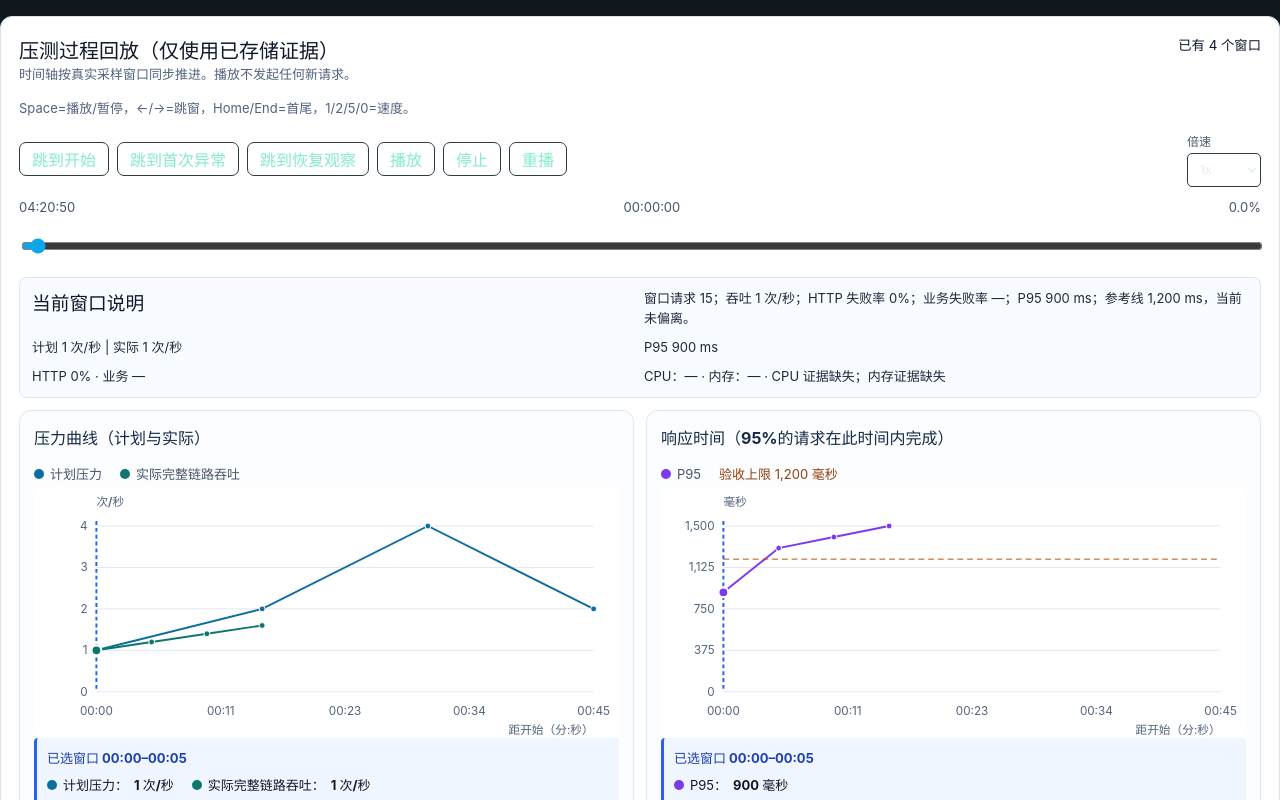
LoadRunReplayPanel › toggles playback with the same play and pause control
The width and height of the screenshot is (1280, 800).
Click the button with test id "replay-toggle". click: (406, 159)
box: [377,142,435,176]
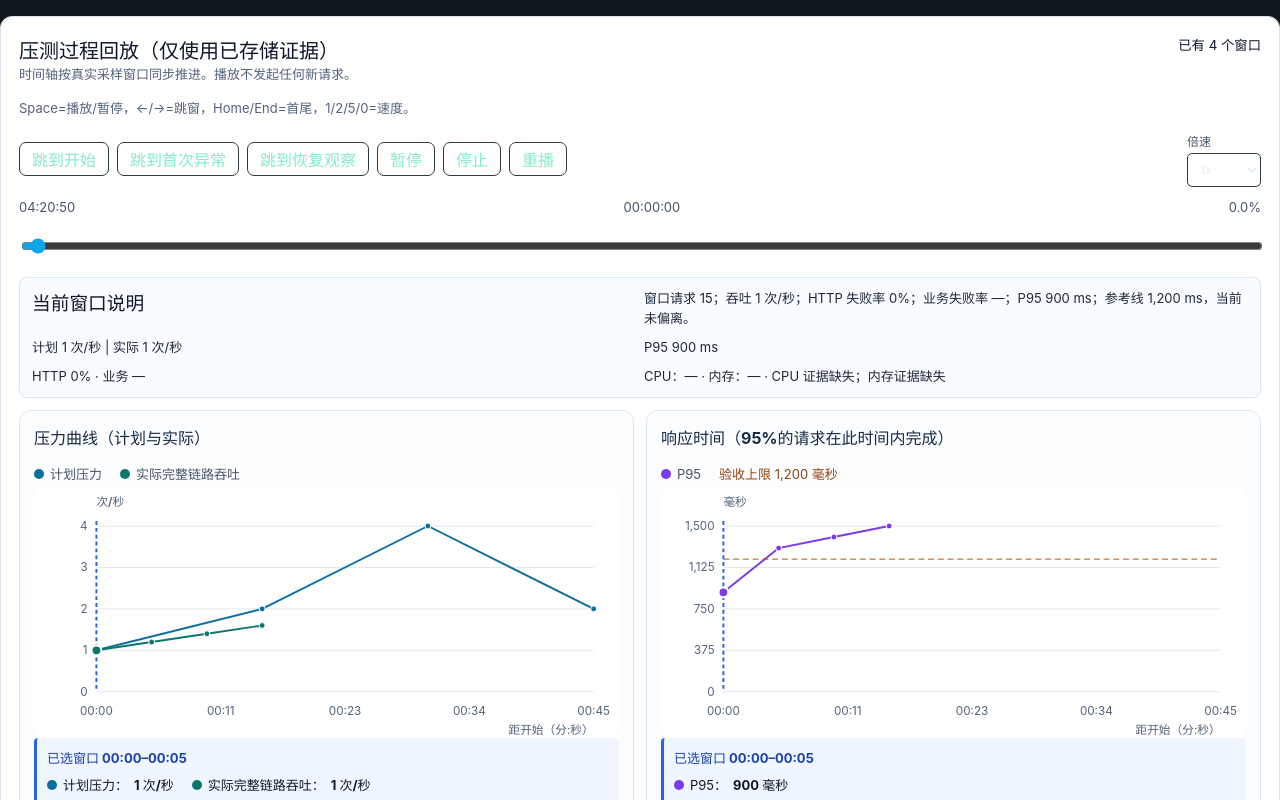
expect the button with test id "replay-toggle" reads "暂停": met
Click the button with test id "replay-toggle". click: (406, 159)
box: [377,142,435,176]
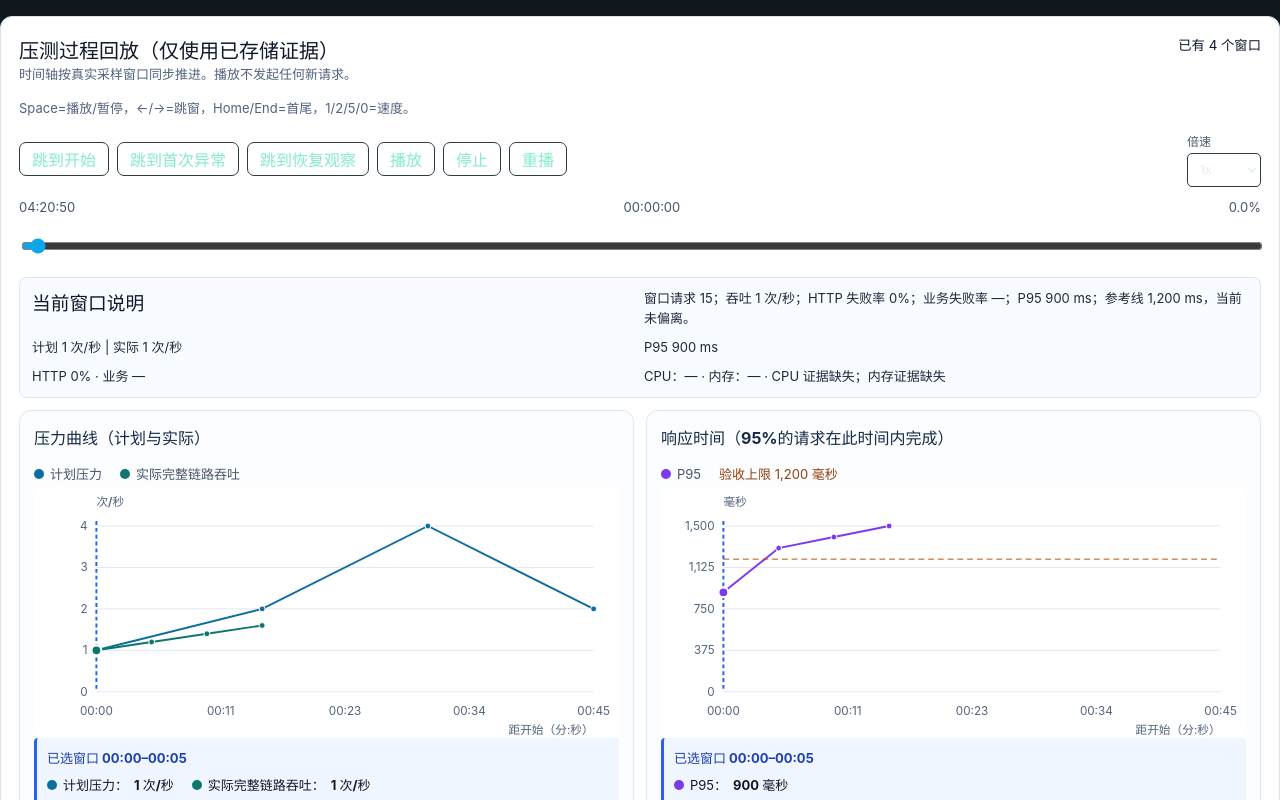
expect the button with test id "replay-toggle" reads "播放": met, box [377,142,435,176]
